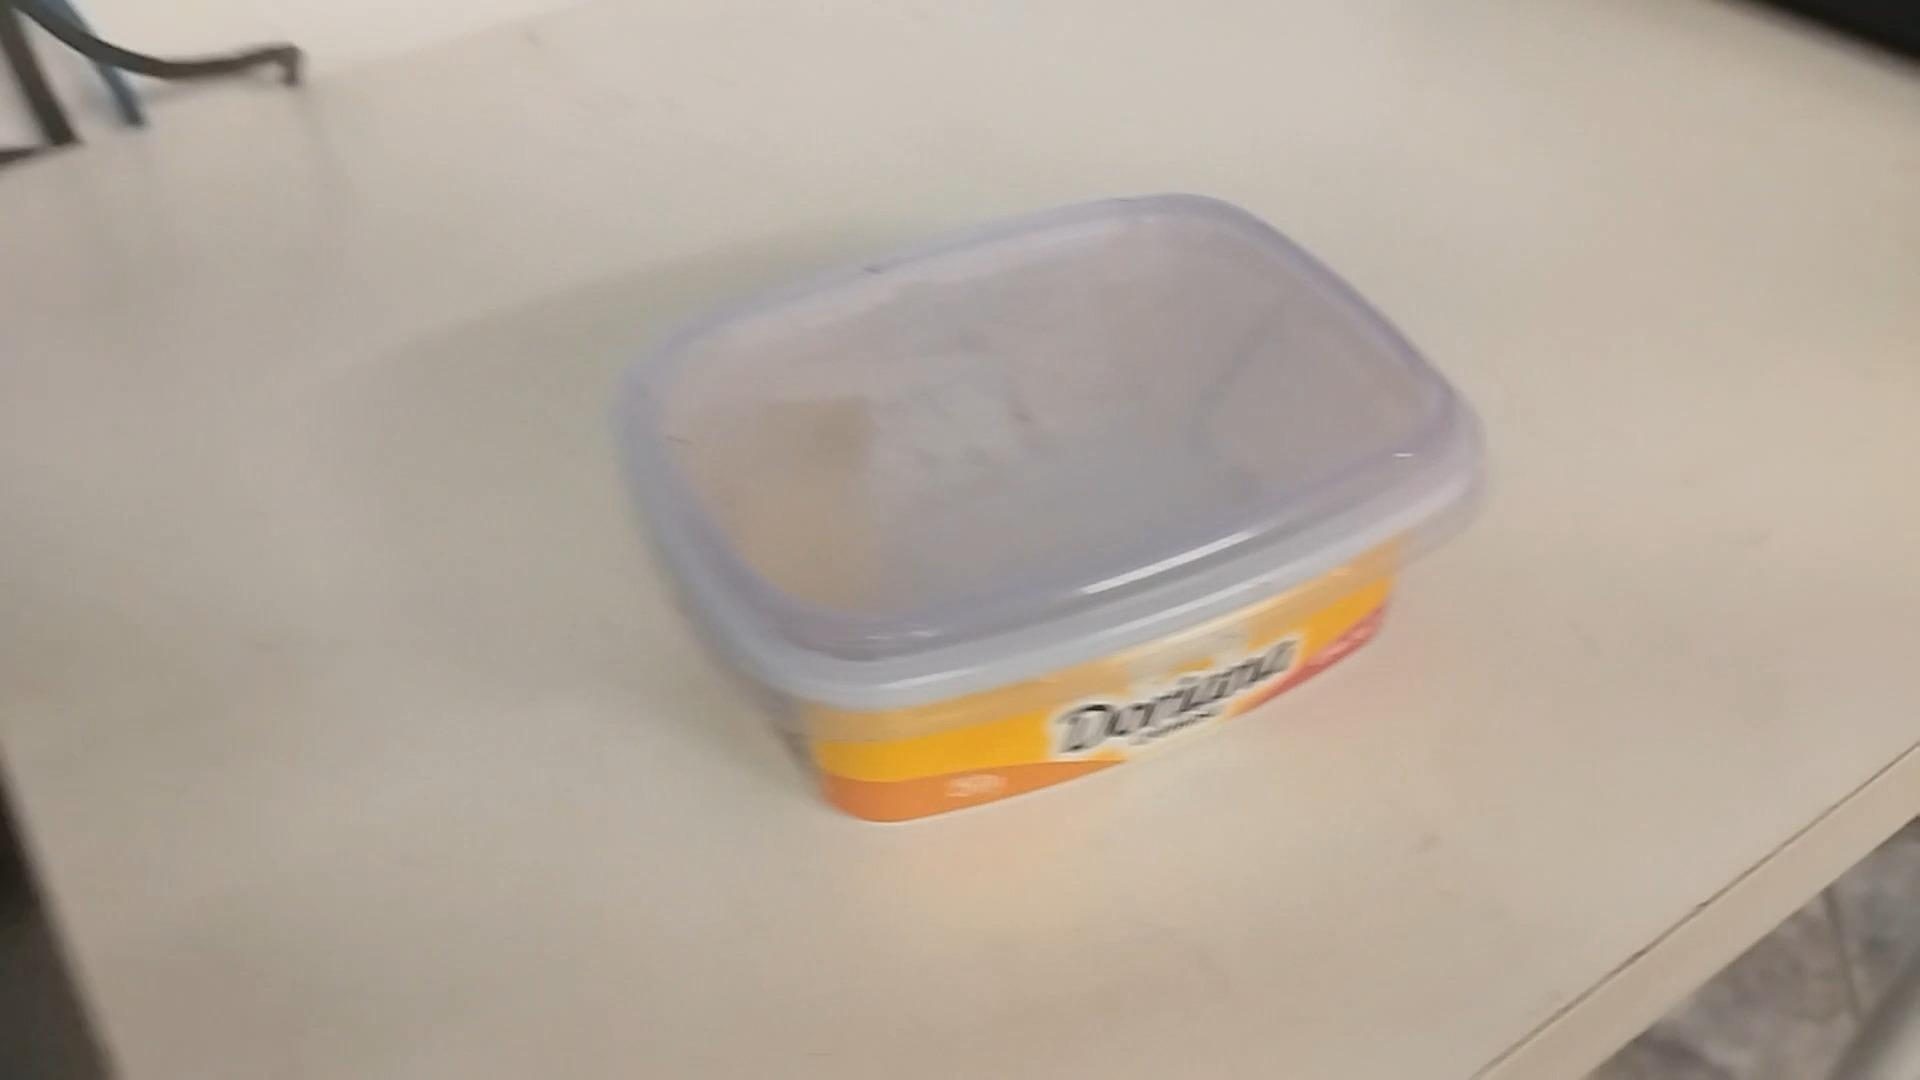butter: (620, 198, 1484, 828)
